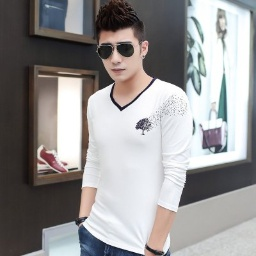face: (95, 1, 149, 81)
